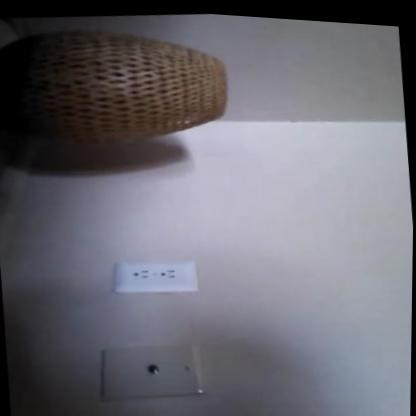OUTLET: (114, 254, 200, 298)
